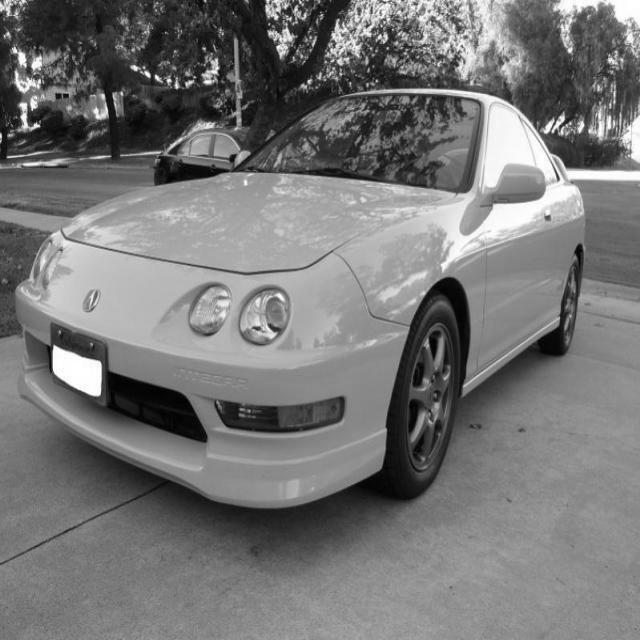Sedan: (14, 89, 586, 512)
